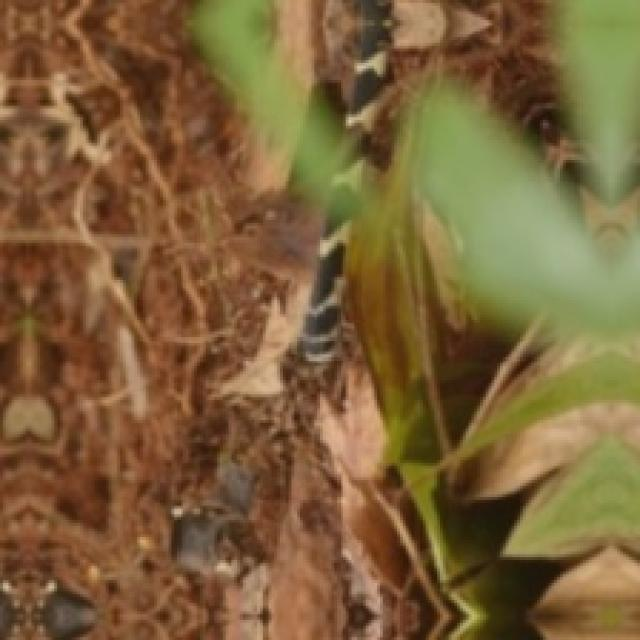king cobra: (309, 0, 577, 194)
